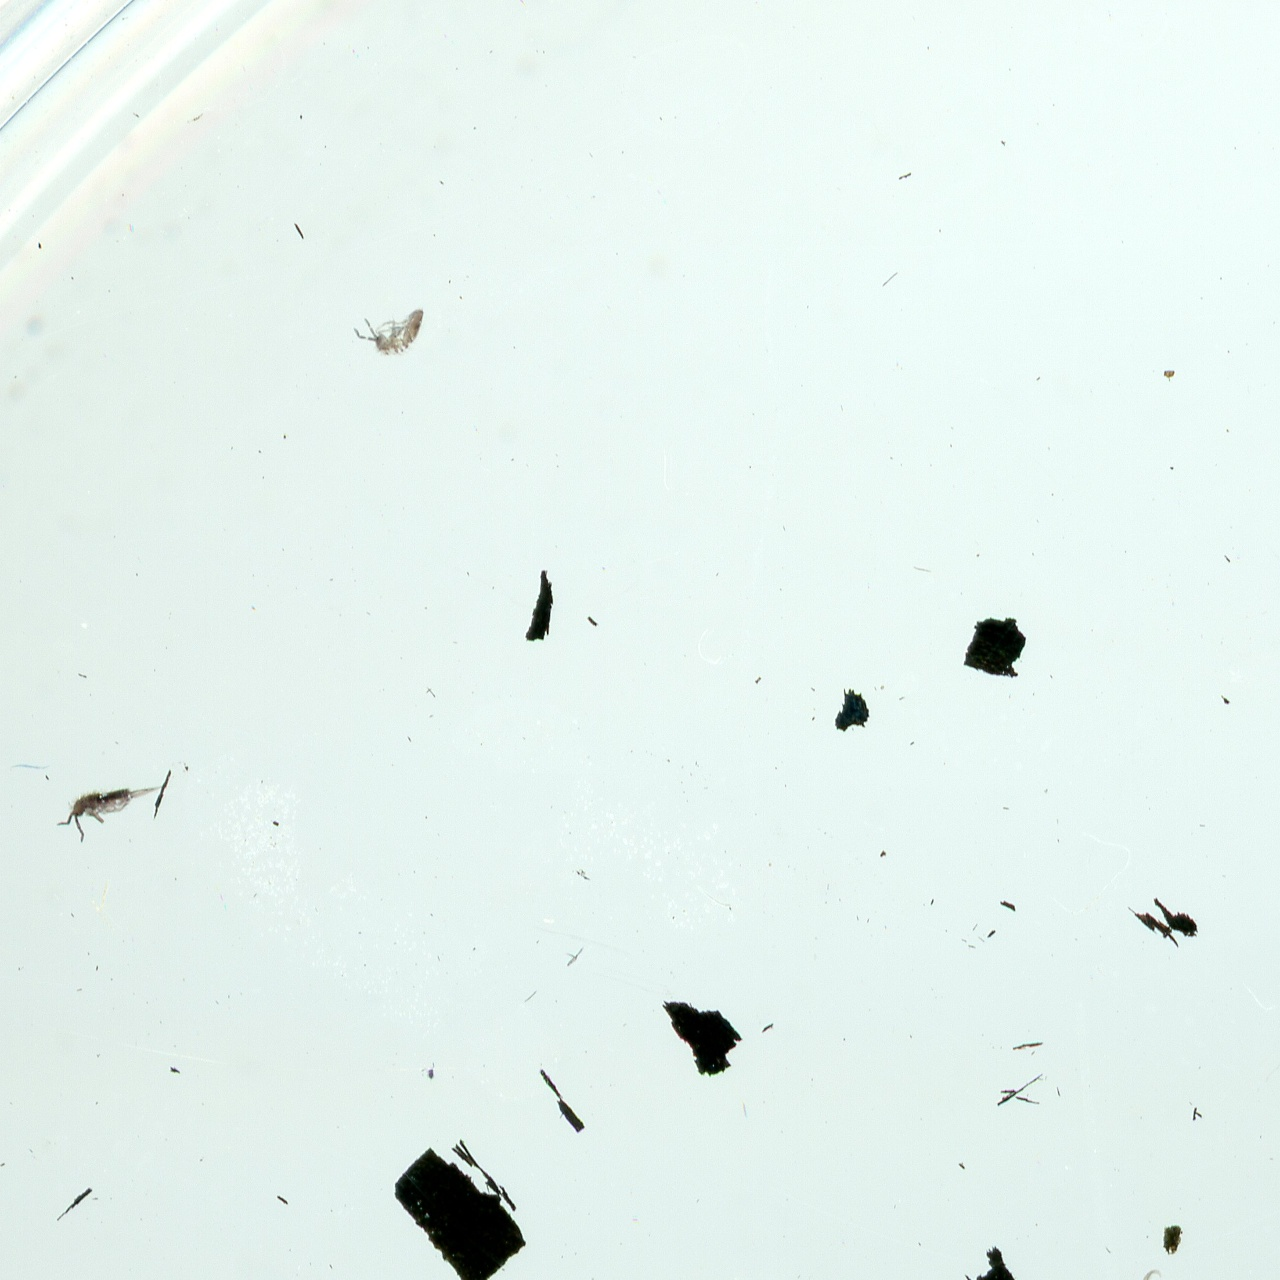arthropod: (50, 776, 170, 850), (352, 306, 427, 359), (1112, 1267, 1164, 1280)
